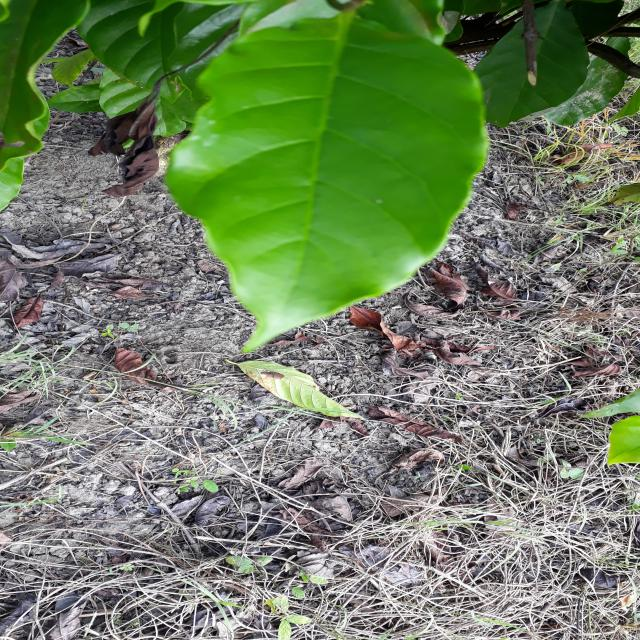Sanas: (184, 0, 490, 353)
